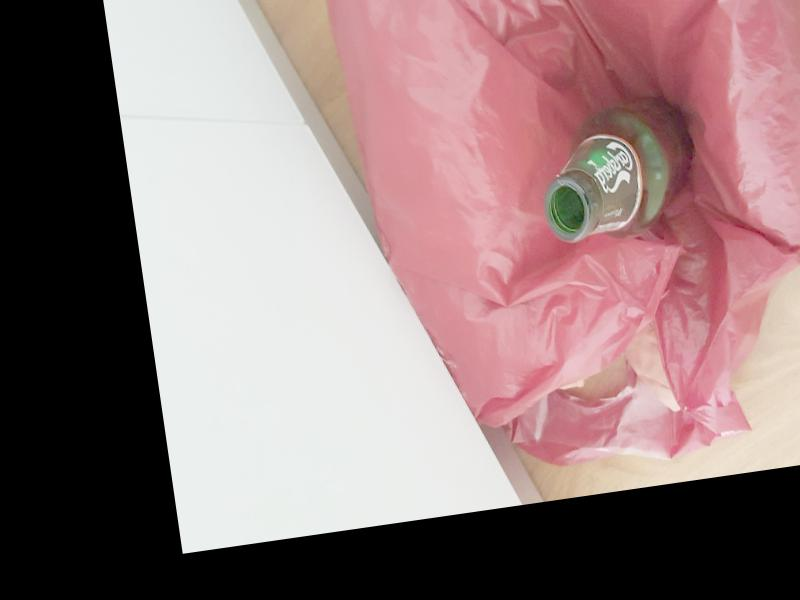Beer: (532, 96, 705, 245)
